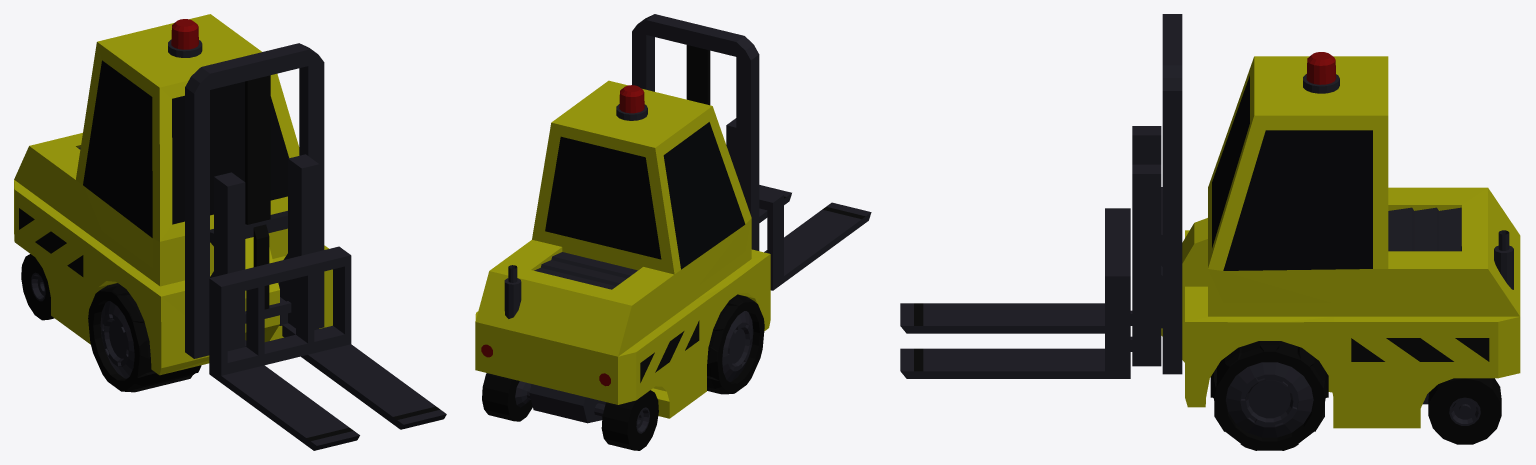
File: forklift.FBX
3 views of the same model, side by side, from view 1: azimuth 30°, elevation 25°; view 2: azimuth 150°, elevation 25°; view 3: azimuth 270°, elevation 25° (orthographic). The views are drawn at different scales.
Visible parts, largest first — view 1: Forklift; view 2: Forklift; view 3: Forklift.
Part boxes in pixels (x1,y1,x2,y2): Forklift: (14,14,446,450); Forklift: (475,14,871,450); Forklift: (900,14,1520,450).
Size of the model in its own units: 6.07 by 10.41 by 16.05.
